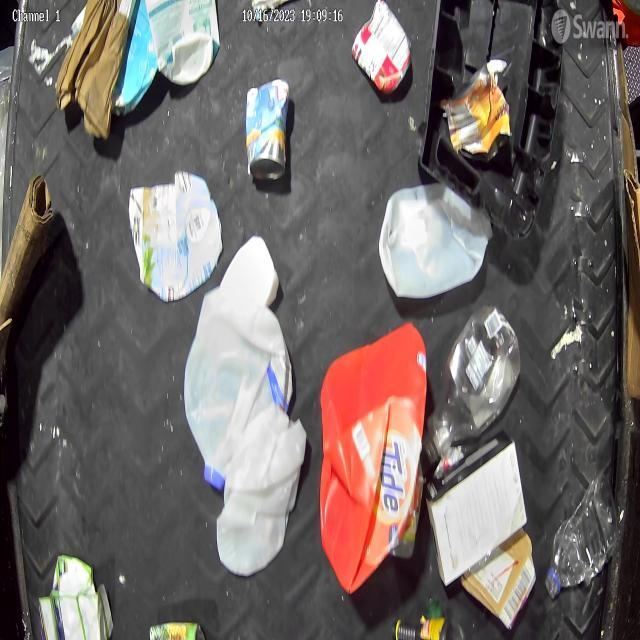can: (440, 60, 513, 164), (350, 0, 412, 100), (244, 80, 292, 182)
milk_jug: (181, 288, 296, 492), (214, 406, 308, 580), (378, 178, 495, 300), (144, 0, 222, 86)
non_white_jug: (316, 317, 428, 598), (116, 0, 160, 114)
plastic_bottle: (422, 300, 524, 471), (544, 472, 622, 600)
